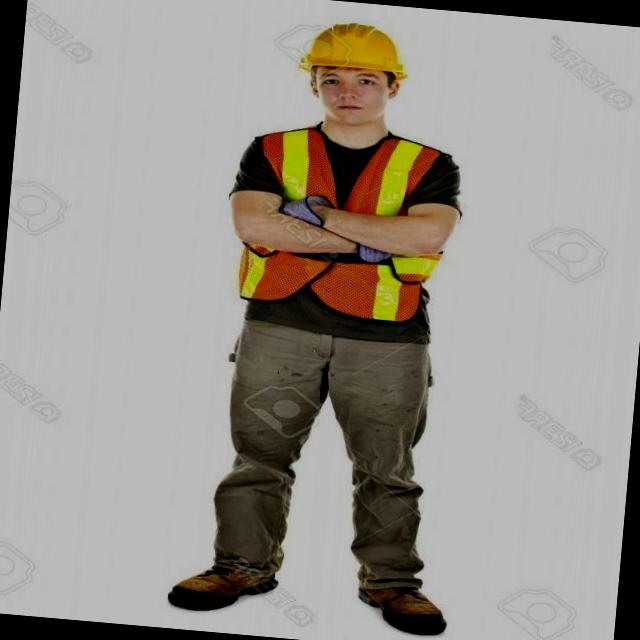vest: (234, 120, 452, 326)
